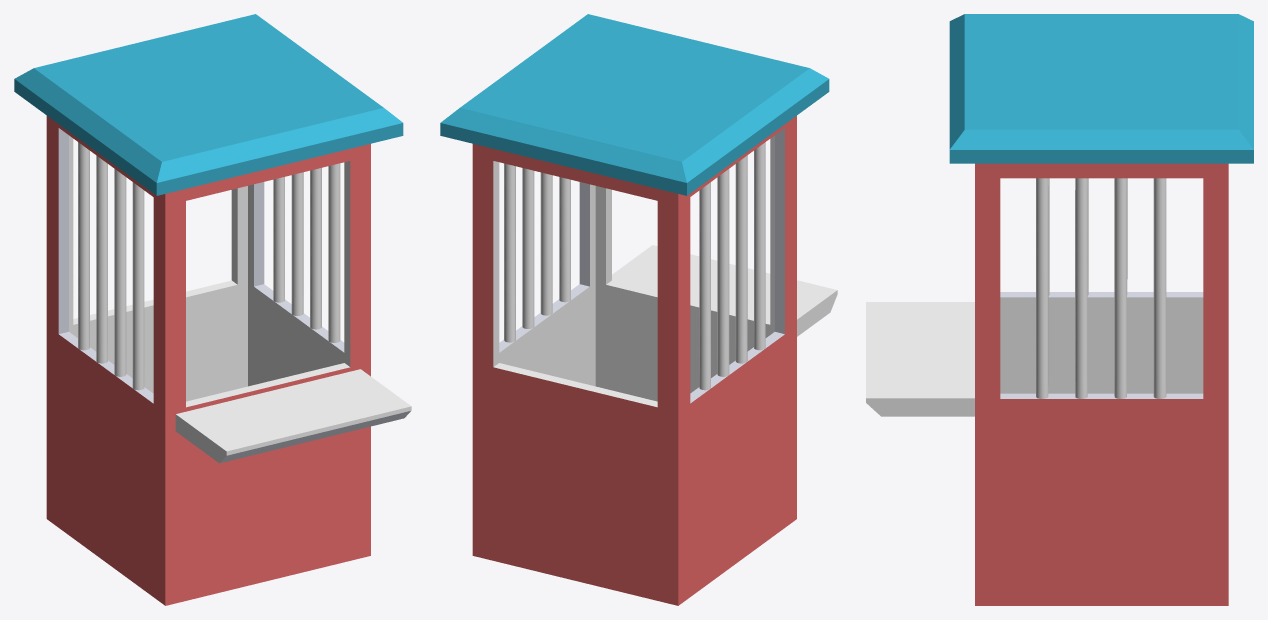
File: TicketBooth.fbx
The picture shows the model from 3 angles, left to right: view 1: azimuth 30°, elevation 25°; view 2: azimuth 150°, elevation 25°; view 3: azimuth 270°, elevation 25°; orthographic projection. The views are drawn at different scales.
Visible parts, largest first — view 1: Ticket Booth; view 2: Ticket Booth; view 3: Ticket Booth.
Boxes of the visible parts, bbox=[...] form: Ticket Booth: bbox=[14, 14, 411, 605]; Ticket Booth: bbox=[440, 14, 837, 605]; Ticket Booth: bbox=[866, 14, 1253, 605].
Size of the model in its own units: 120 by 209 by 153.
